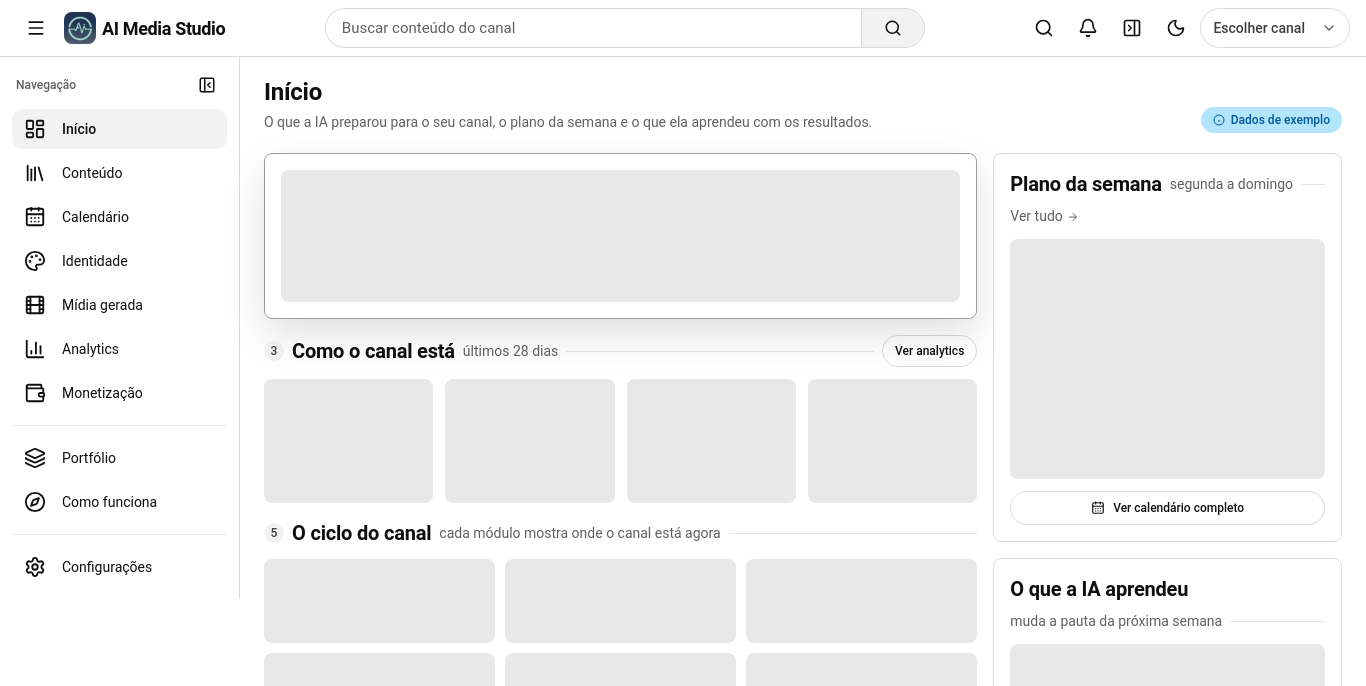
barras laterais abrem e fecham › o botão da esquerda fecha e reabre, e o X de dentro da barra também fecha
Expected: the element with id "barra-lateral-esquerda" is shown, [0, 57, 240, 599]
Click the button named "Menu de navegação".
click(36, 28)  # box [16, 8, 56, 48]
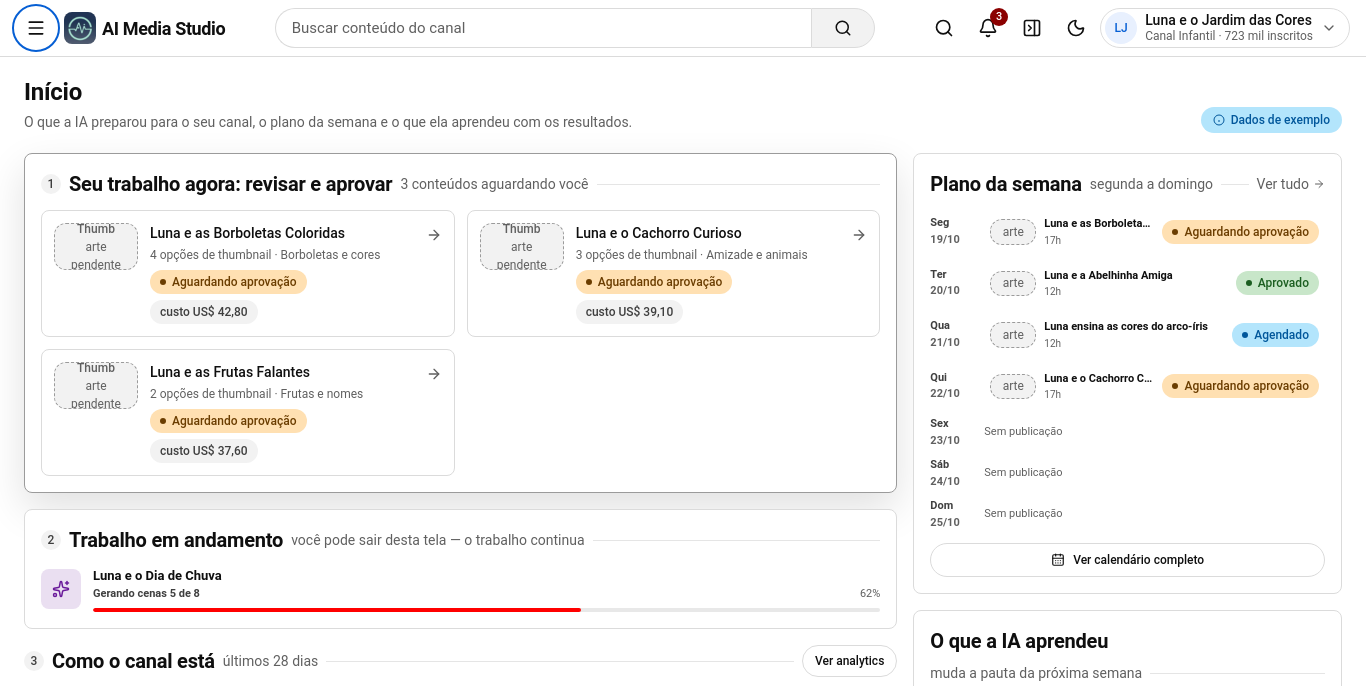
Now the button named "Menu de navegação" is collapsed
Click the button named "Menu de navegação".
click(36, 28)  # box [16, 8, 56, 48]
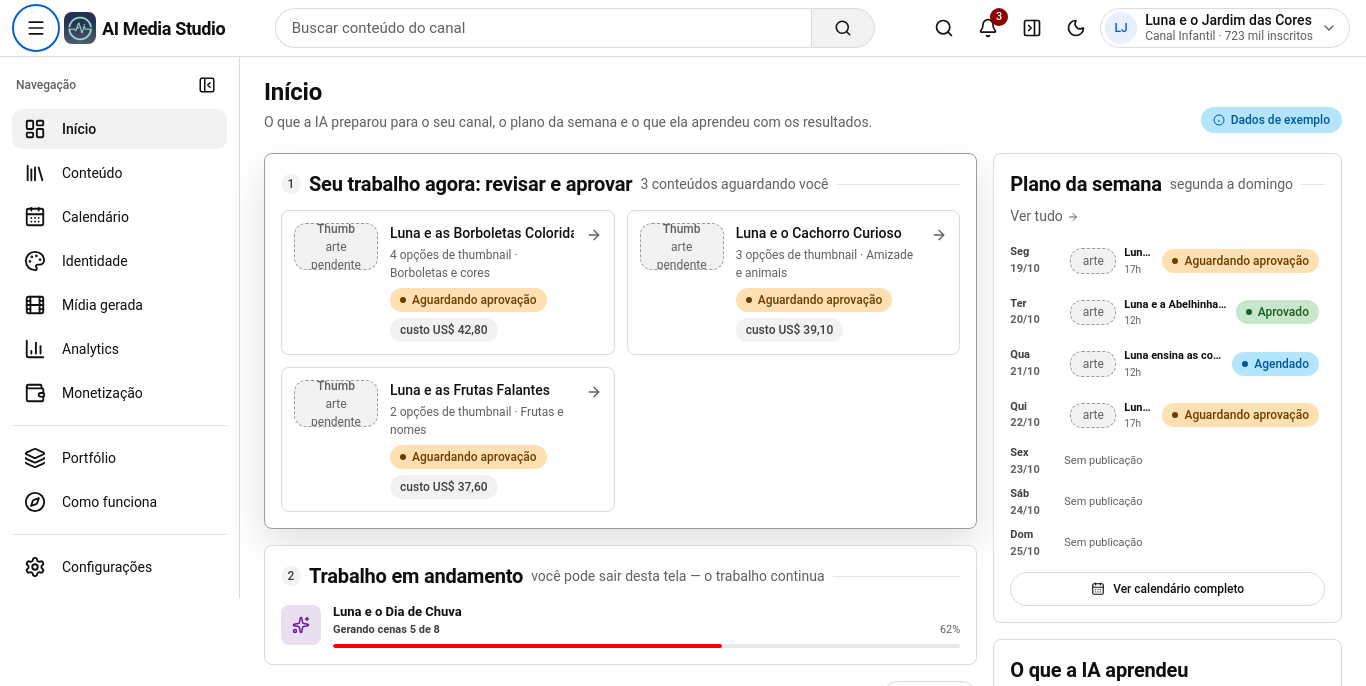
O "X" dentro da barra faz a mesma coisa — quem procura como fechar procura ali.
Click the button named "Fechar o menu de navegação".
click(207, 85)  # box [191, 69, 223, 101]
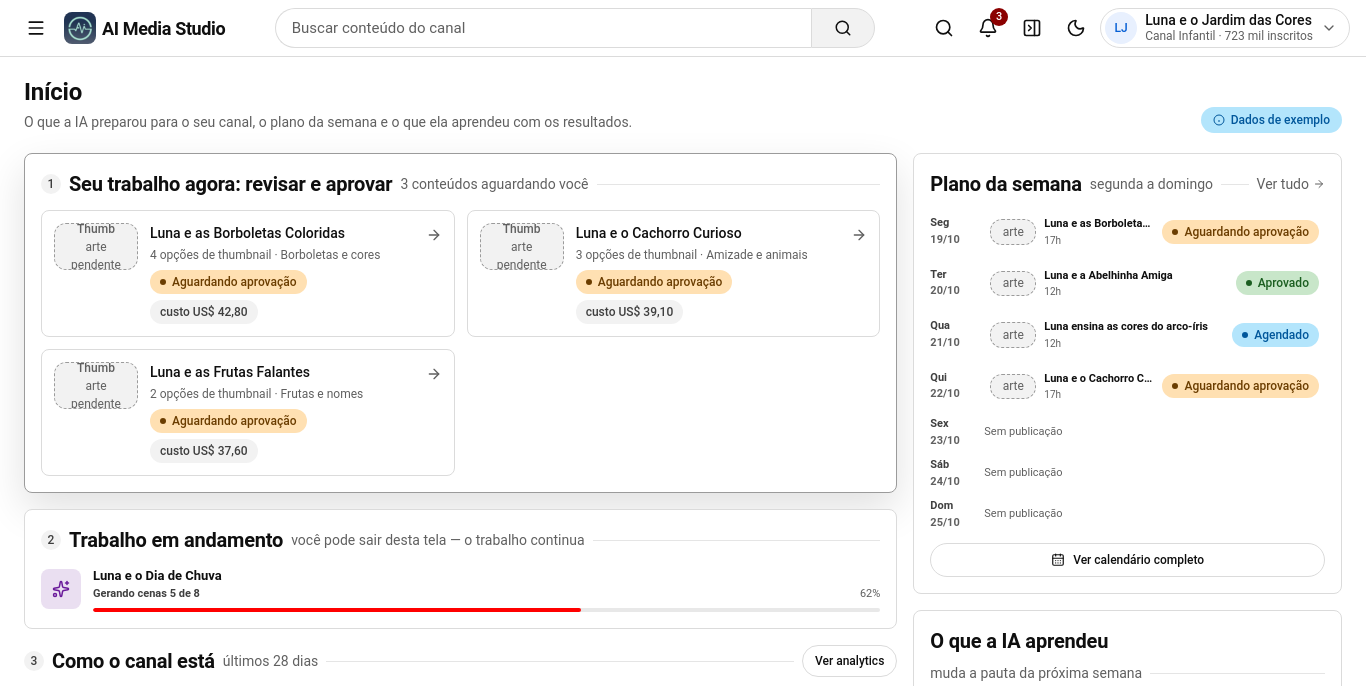
Now the button named "Menu de navegação" is collapsed, box [16, 8, 56, 48]
